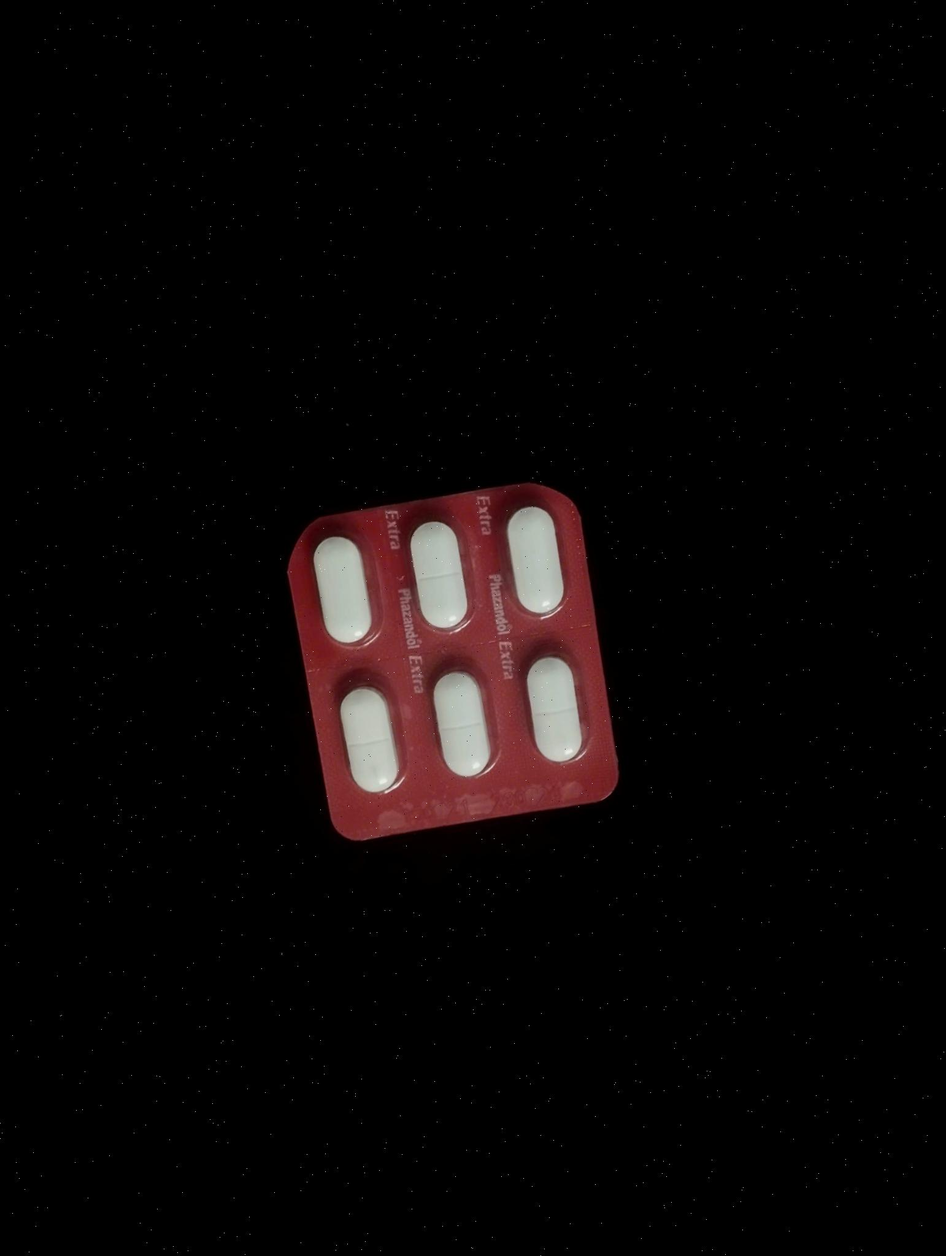Full: (398, 507, 483, 642), (510, 646, 595, 773), (488, 500, 574, 624), (304, 526, 385, 654), (325, 679, 411, 798), (424, 664, 506, 784)
